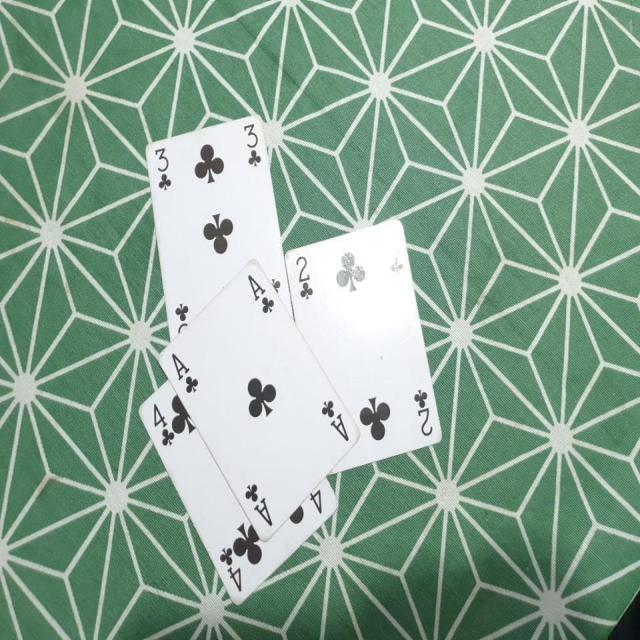2 Trefoils: (282, 215, 442, 474)
3 Trefoils: (144, 113, 293, 340)
4 Trefoils: (138, 378, 340, 605)
A Trefoils: (157, 257, 360, 542)
